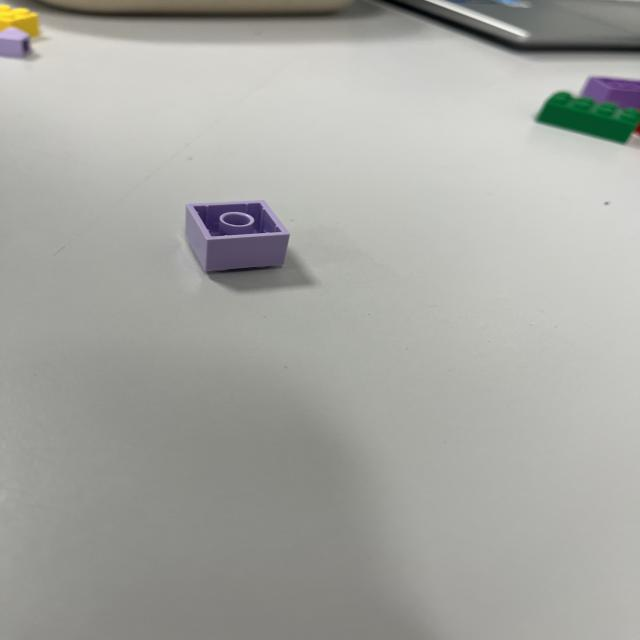C2x2x1: (176, 195, 294, 278)
